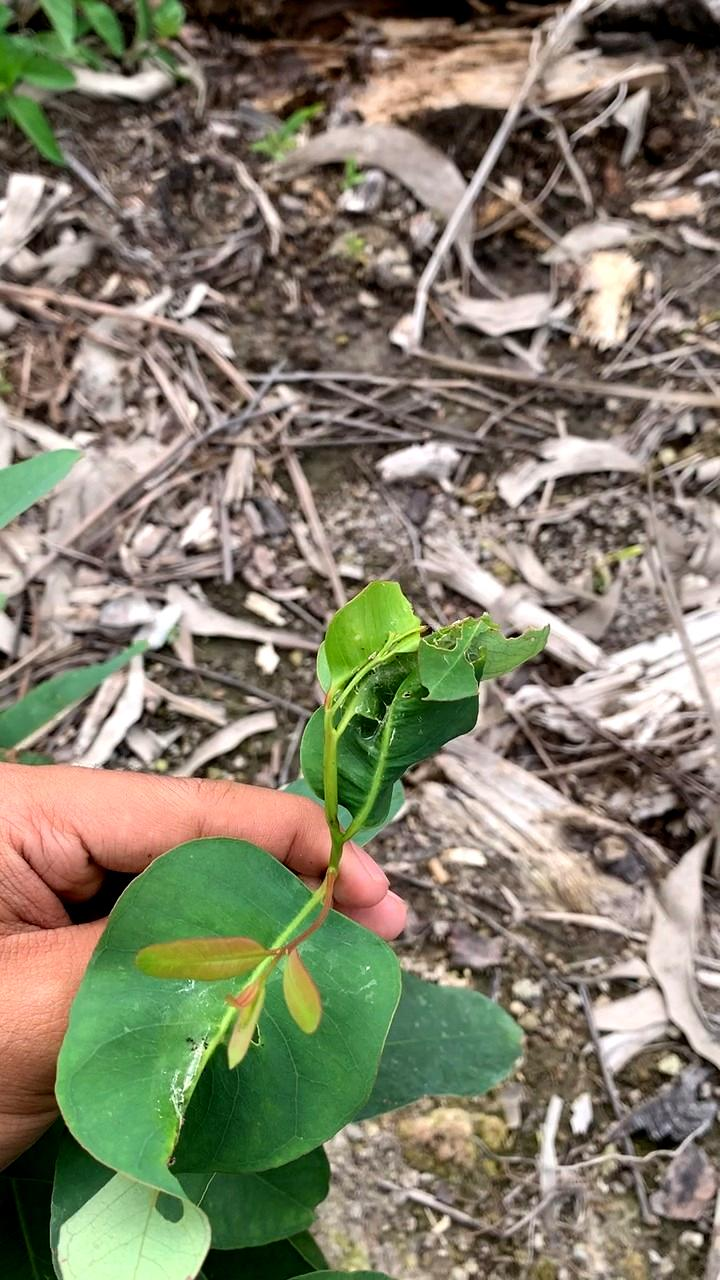Leaf Roller - Leaf: (308, 568, 551, 825)
